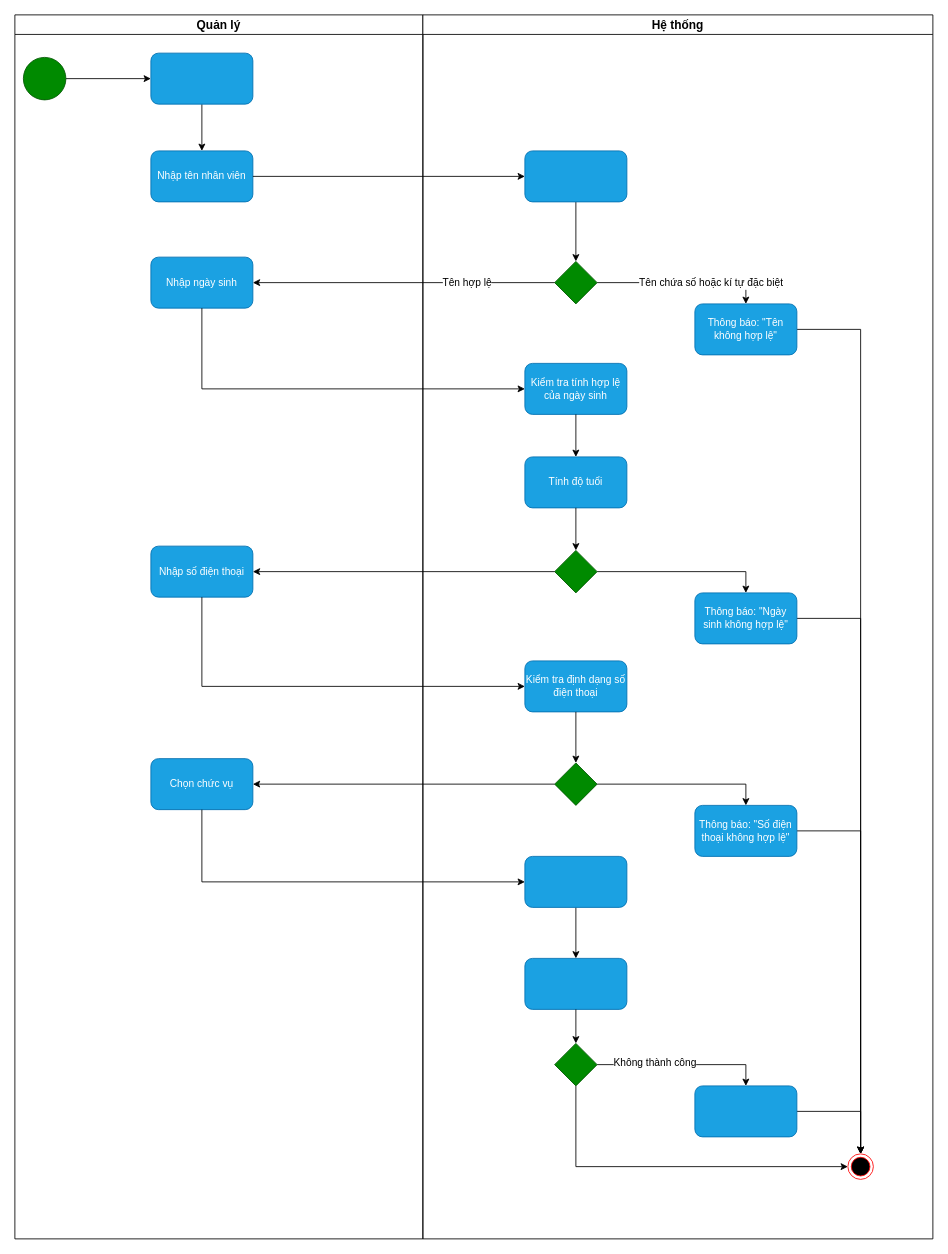
Image size: 948x1254. Some labels were removed from this diagram. The centre of each missing label's shape, as x and y in pixels:
Chọn chức năng tạo tài khoản nhân viên: pixel 201 78
Kiểm tra tính hợp lệ: pixel 575 176
Lưu thành công: pixel 575 1064
Lưu thông tin: pixel 575 983
Thông báo: "Lưu không thành công": pixel 745 1111
Tạo ID: pixel 575 881
